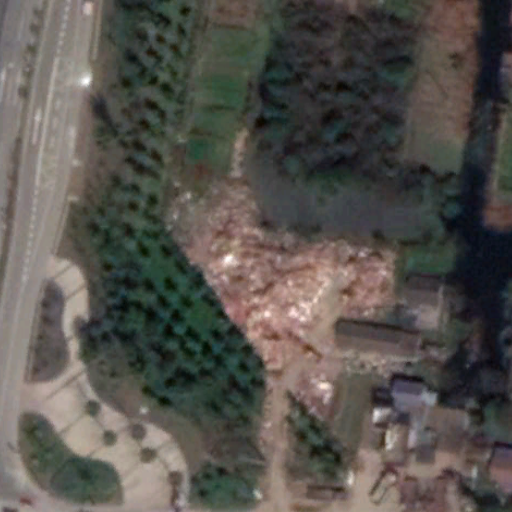msw: (199, 177, 397, 356)
